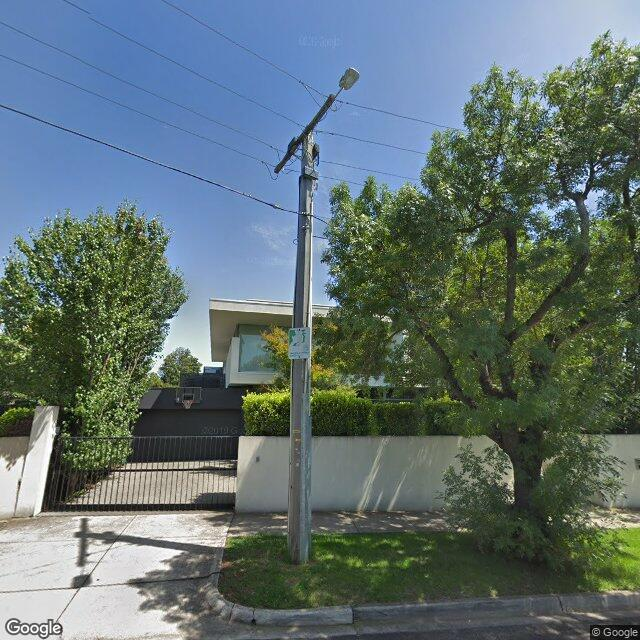crossarm: (275, 94, 335, 174)
streetlight: (334, 68, 359, 99)
timber-pole: (288, 130, 314, 564)
